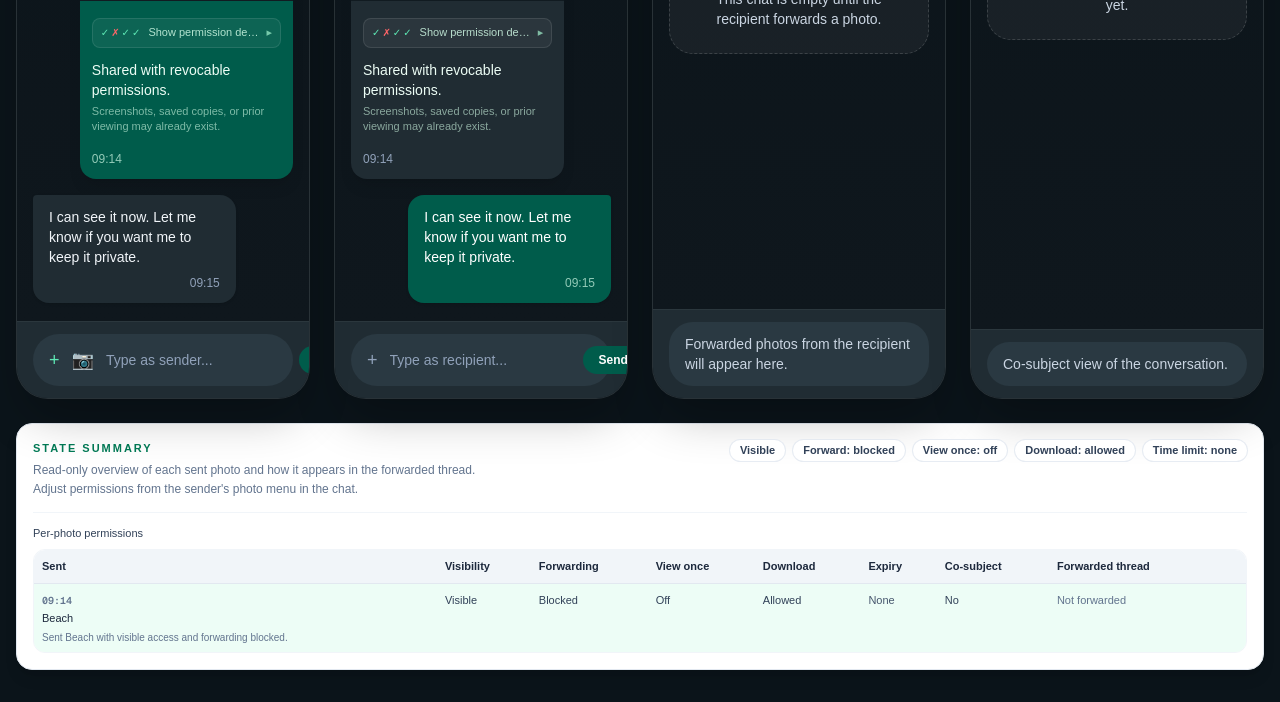
it: PhotoRevocationDemo › sends a preset photo directly from the picker
This screenshot has width=1280, height=702.
(page scrolled)
Click the button named "Open photo actions". click: (54, 360)
box: [49,346,60,374]
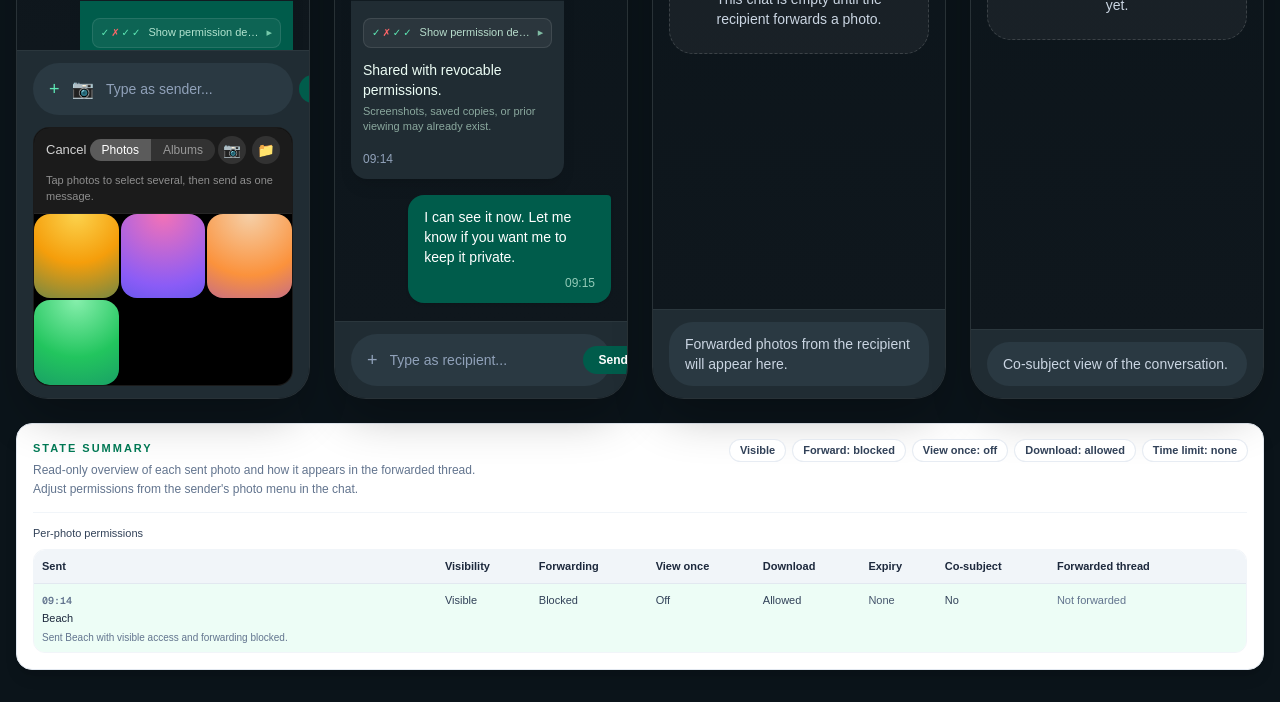
Expected: the element "Cancel" is shown, [33,127,293,386]
Expected: the button "Sample photo Beach" below "Albums" is shown
Click the button "Sample photo Beach" below "Albums". click: (76, 256)
box: [34,214,119,298]
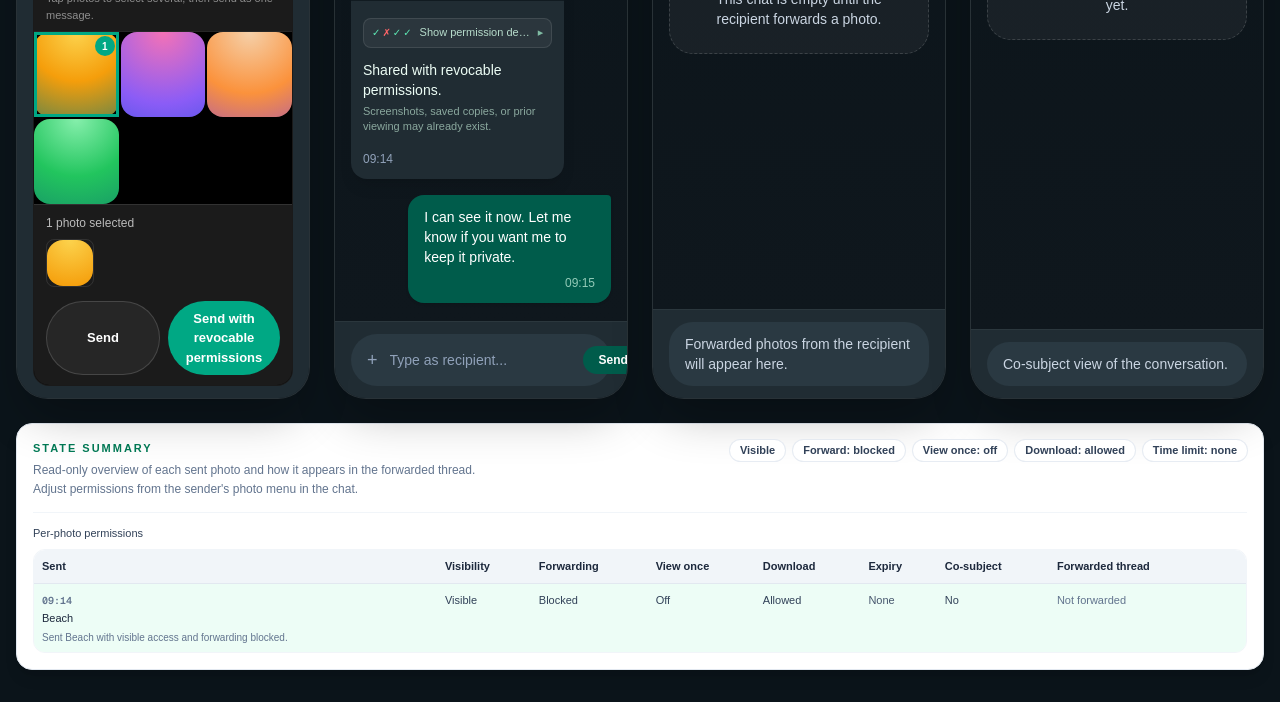
Click the button "Send" below "1 photo selected". click: (103, 338)
box: [46,300,160,375]
(page scrolled)
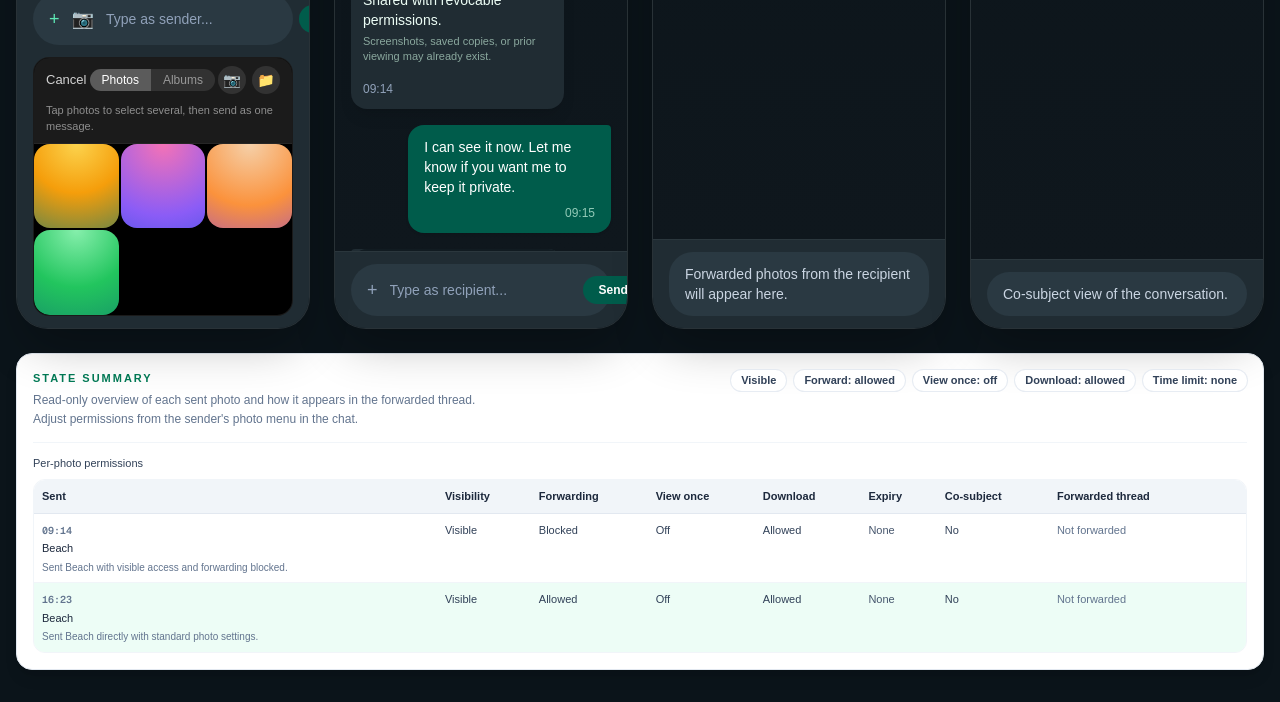
Expected: the text "Sent Beach directly with standard photo settings." is shown, [42,631,258,642]
